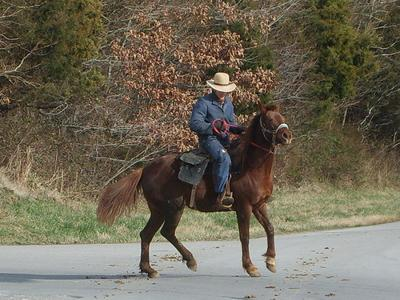person: (188, 71, 241, 210)
